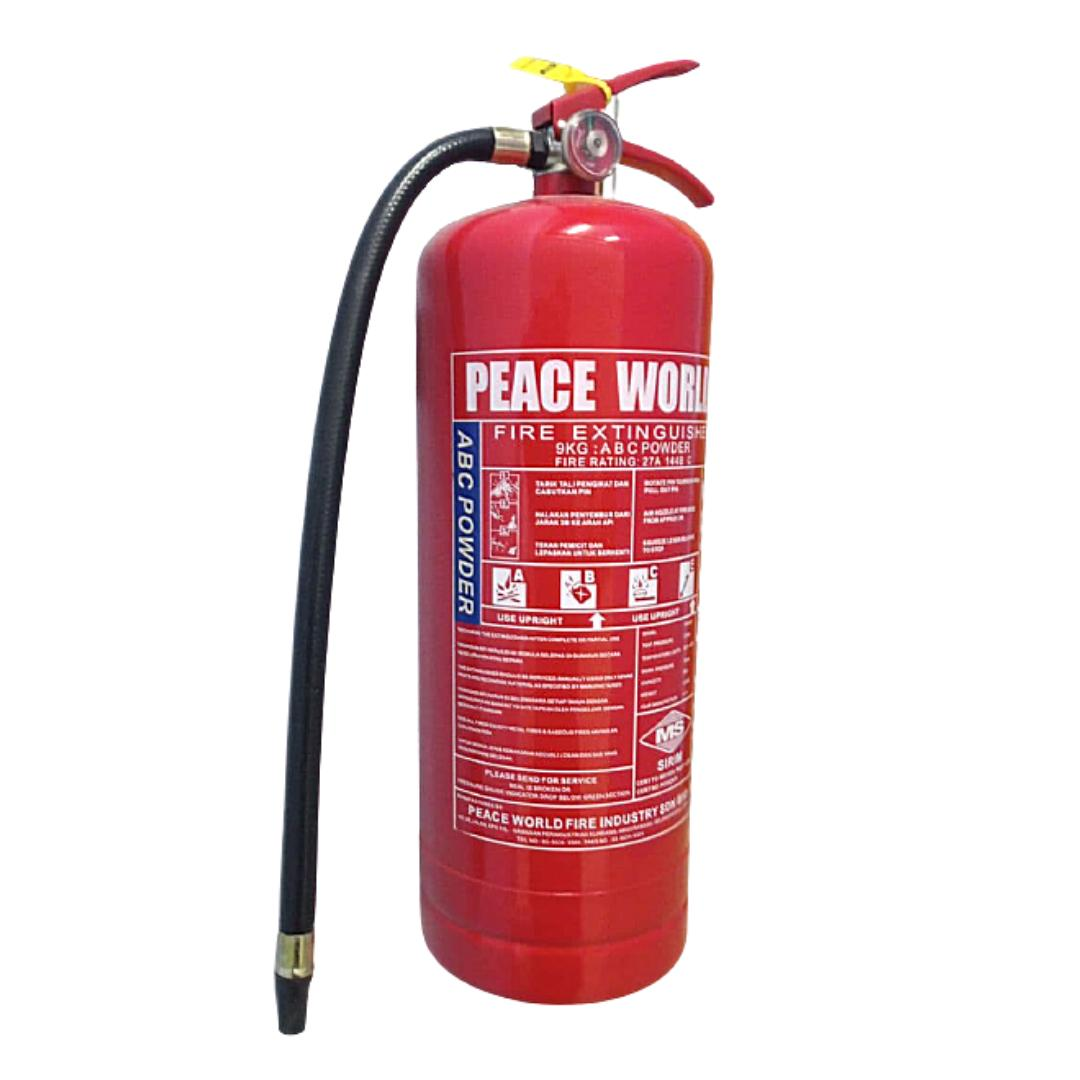Fire Extinguisher: (240, 43, 770, 1050)
